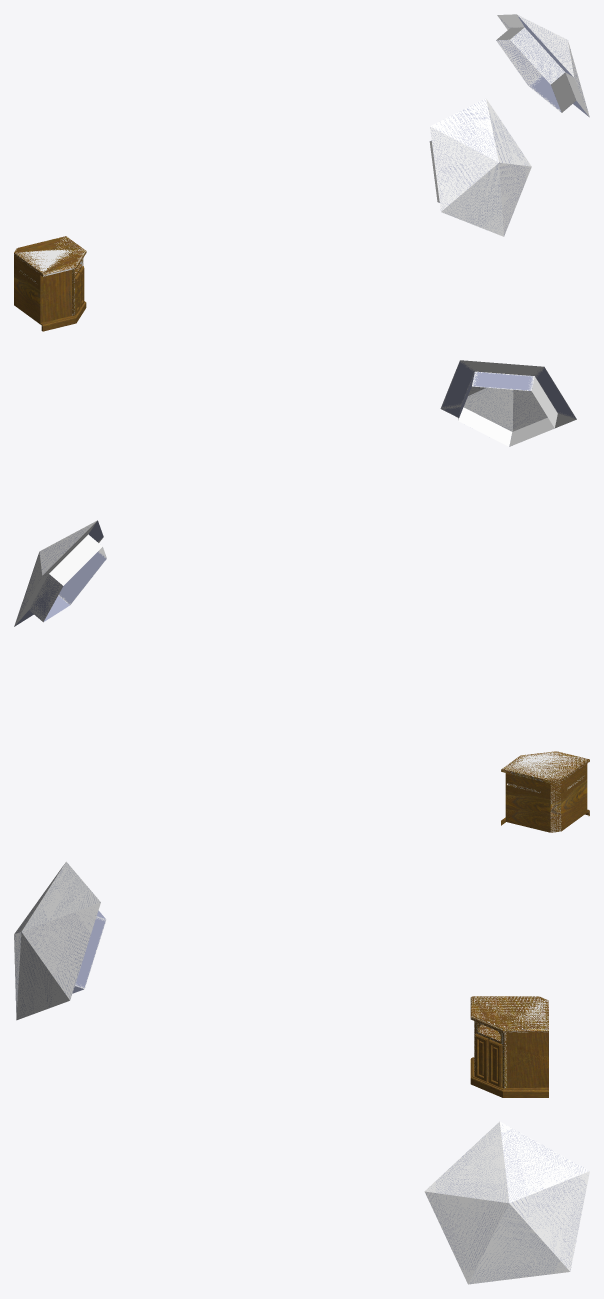
The model's file is mueble+tele+rincon.obj.
The picture shows the model from 3 angles, top to bottom: view 1: azimuth 30°, elevation 25°; view 2: azimuth 150°, elevation 25°; view 3: azimuth 270°, elevation 25°; orthographic projection. The views are drawn at different scales.
Parts seen in each view (by area): view 1: Mesh21 V_Ray_Spot_Light1 Model, Mesh1 Group2 Group1 Model, Mesh19 V_Ray_Spot_Light Model; view 2: Mesh21 V_Ray_Spot_Light1 Model, Mesh1 Group2 Group1 Model, Mesh19 V_Ray_Spot_Light Model; view 3: Mesh19 V_Ray_Spot_Light Model, Mesh21 V_Ray_Spot_Light1 Model, Mesh1 Group2 Group1 Model, Mesh8 Componente_1_1 Group1 Model, Mesh12 Componente_1_2 Group1 Model.
Part boxes in pixels (<box>): Mesh21 V_Ray_Spot_Light1 Model: <box>429,98,531,236</box>; Mesh1 Group2 Group1 Model: <box>14,236,86,331</box>; Mesh19 V_Ray_Spot_Light Model: <box>496,14,589,117</box>; Mesh21 V_Ray_Spot_Light1 Model: <box>440,360,576,446</box>; Mesh1 Group2 Group1 Model: <box>501,751,589,832</box>; Mesh19 V_Ray_Spot_Light Model: <box>14,520,106,626</box>; Mesh19 V_Ray_Spot_Light Model: <box>424,1121,589,1284</box>; Mesh21 V_Ray_Spot_Light1 Model: <box>14,861,106,1020</box>; Mesh1 Group2 Group1 Model: <box>470,996,548,1097</box>; Mesh8 Componente_1_1 Group1 Model: <box>475,1033,488,1082</box>; Mesh12 Componente_1_2 Group1 Model: <box>489,1039,502,1088</box>.
Bounding box in the file's own units: 8406 × 4080 × 6473.
